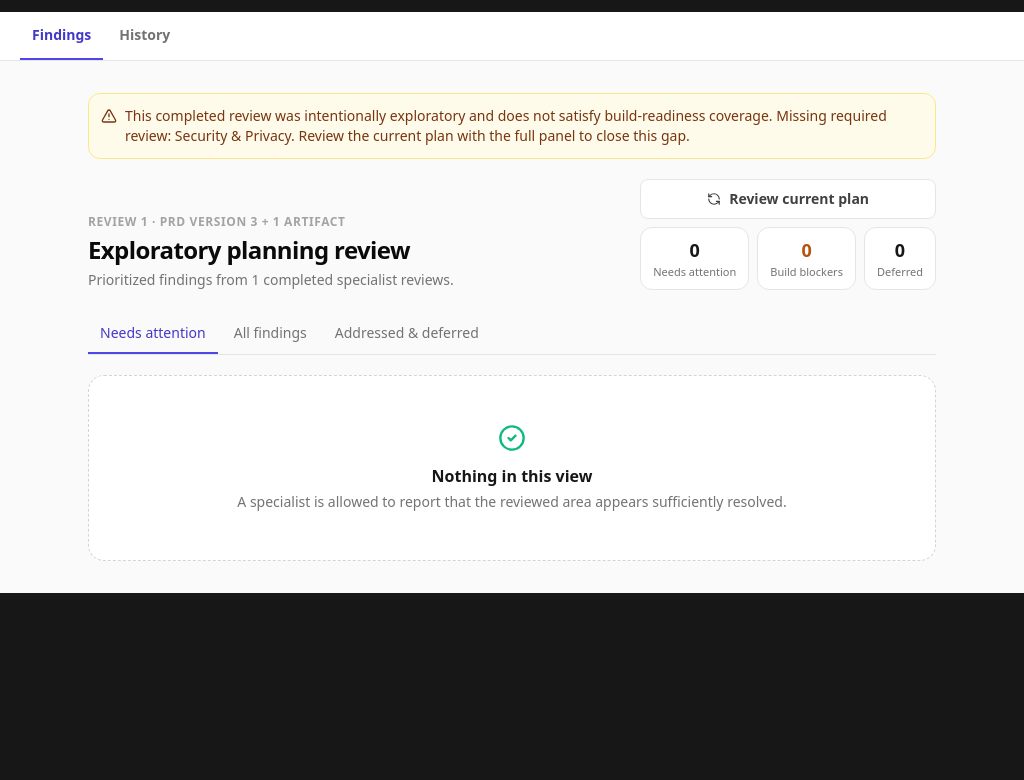
Test: ReviewWorkspace › preserves exploratory coverage and omitted specialists in results and history
Expected: the heading "Exploratory planning review" is shown, [88,234,454,266]
Expected: the text "Missing required review: Security & Privacy" is shown, [125,106,923,146]
Click the button with aria-label "Review history".
click(145, 36)  # box [107,12,182,60]
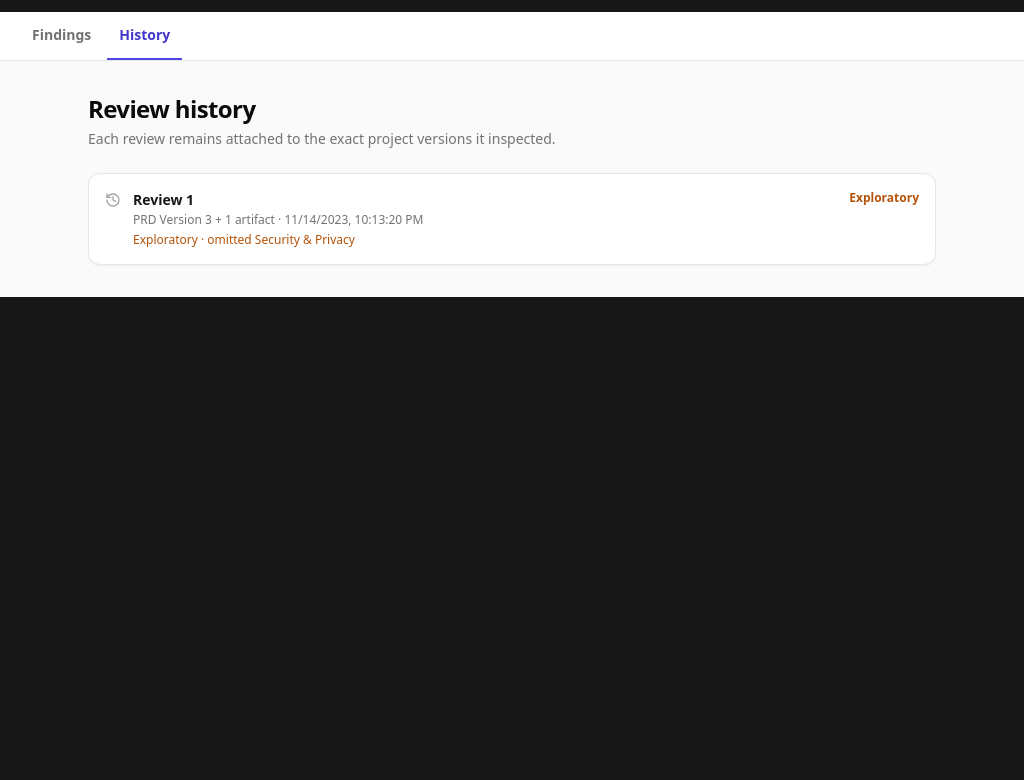
Now the text "Exploratory · omitted Security & Privacy" is shown, box [133,231,355,248]
